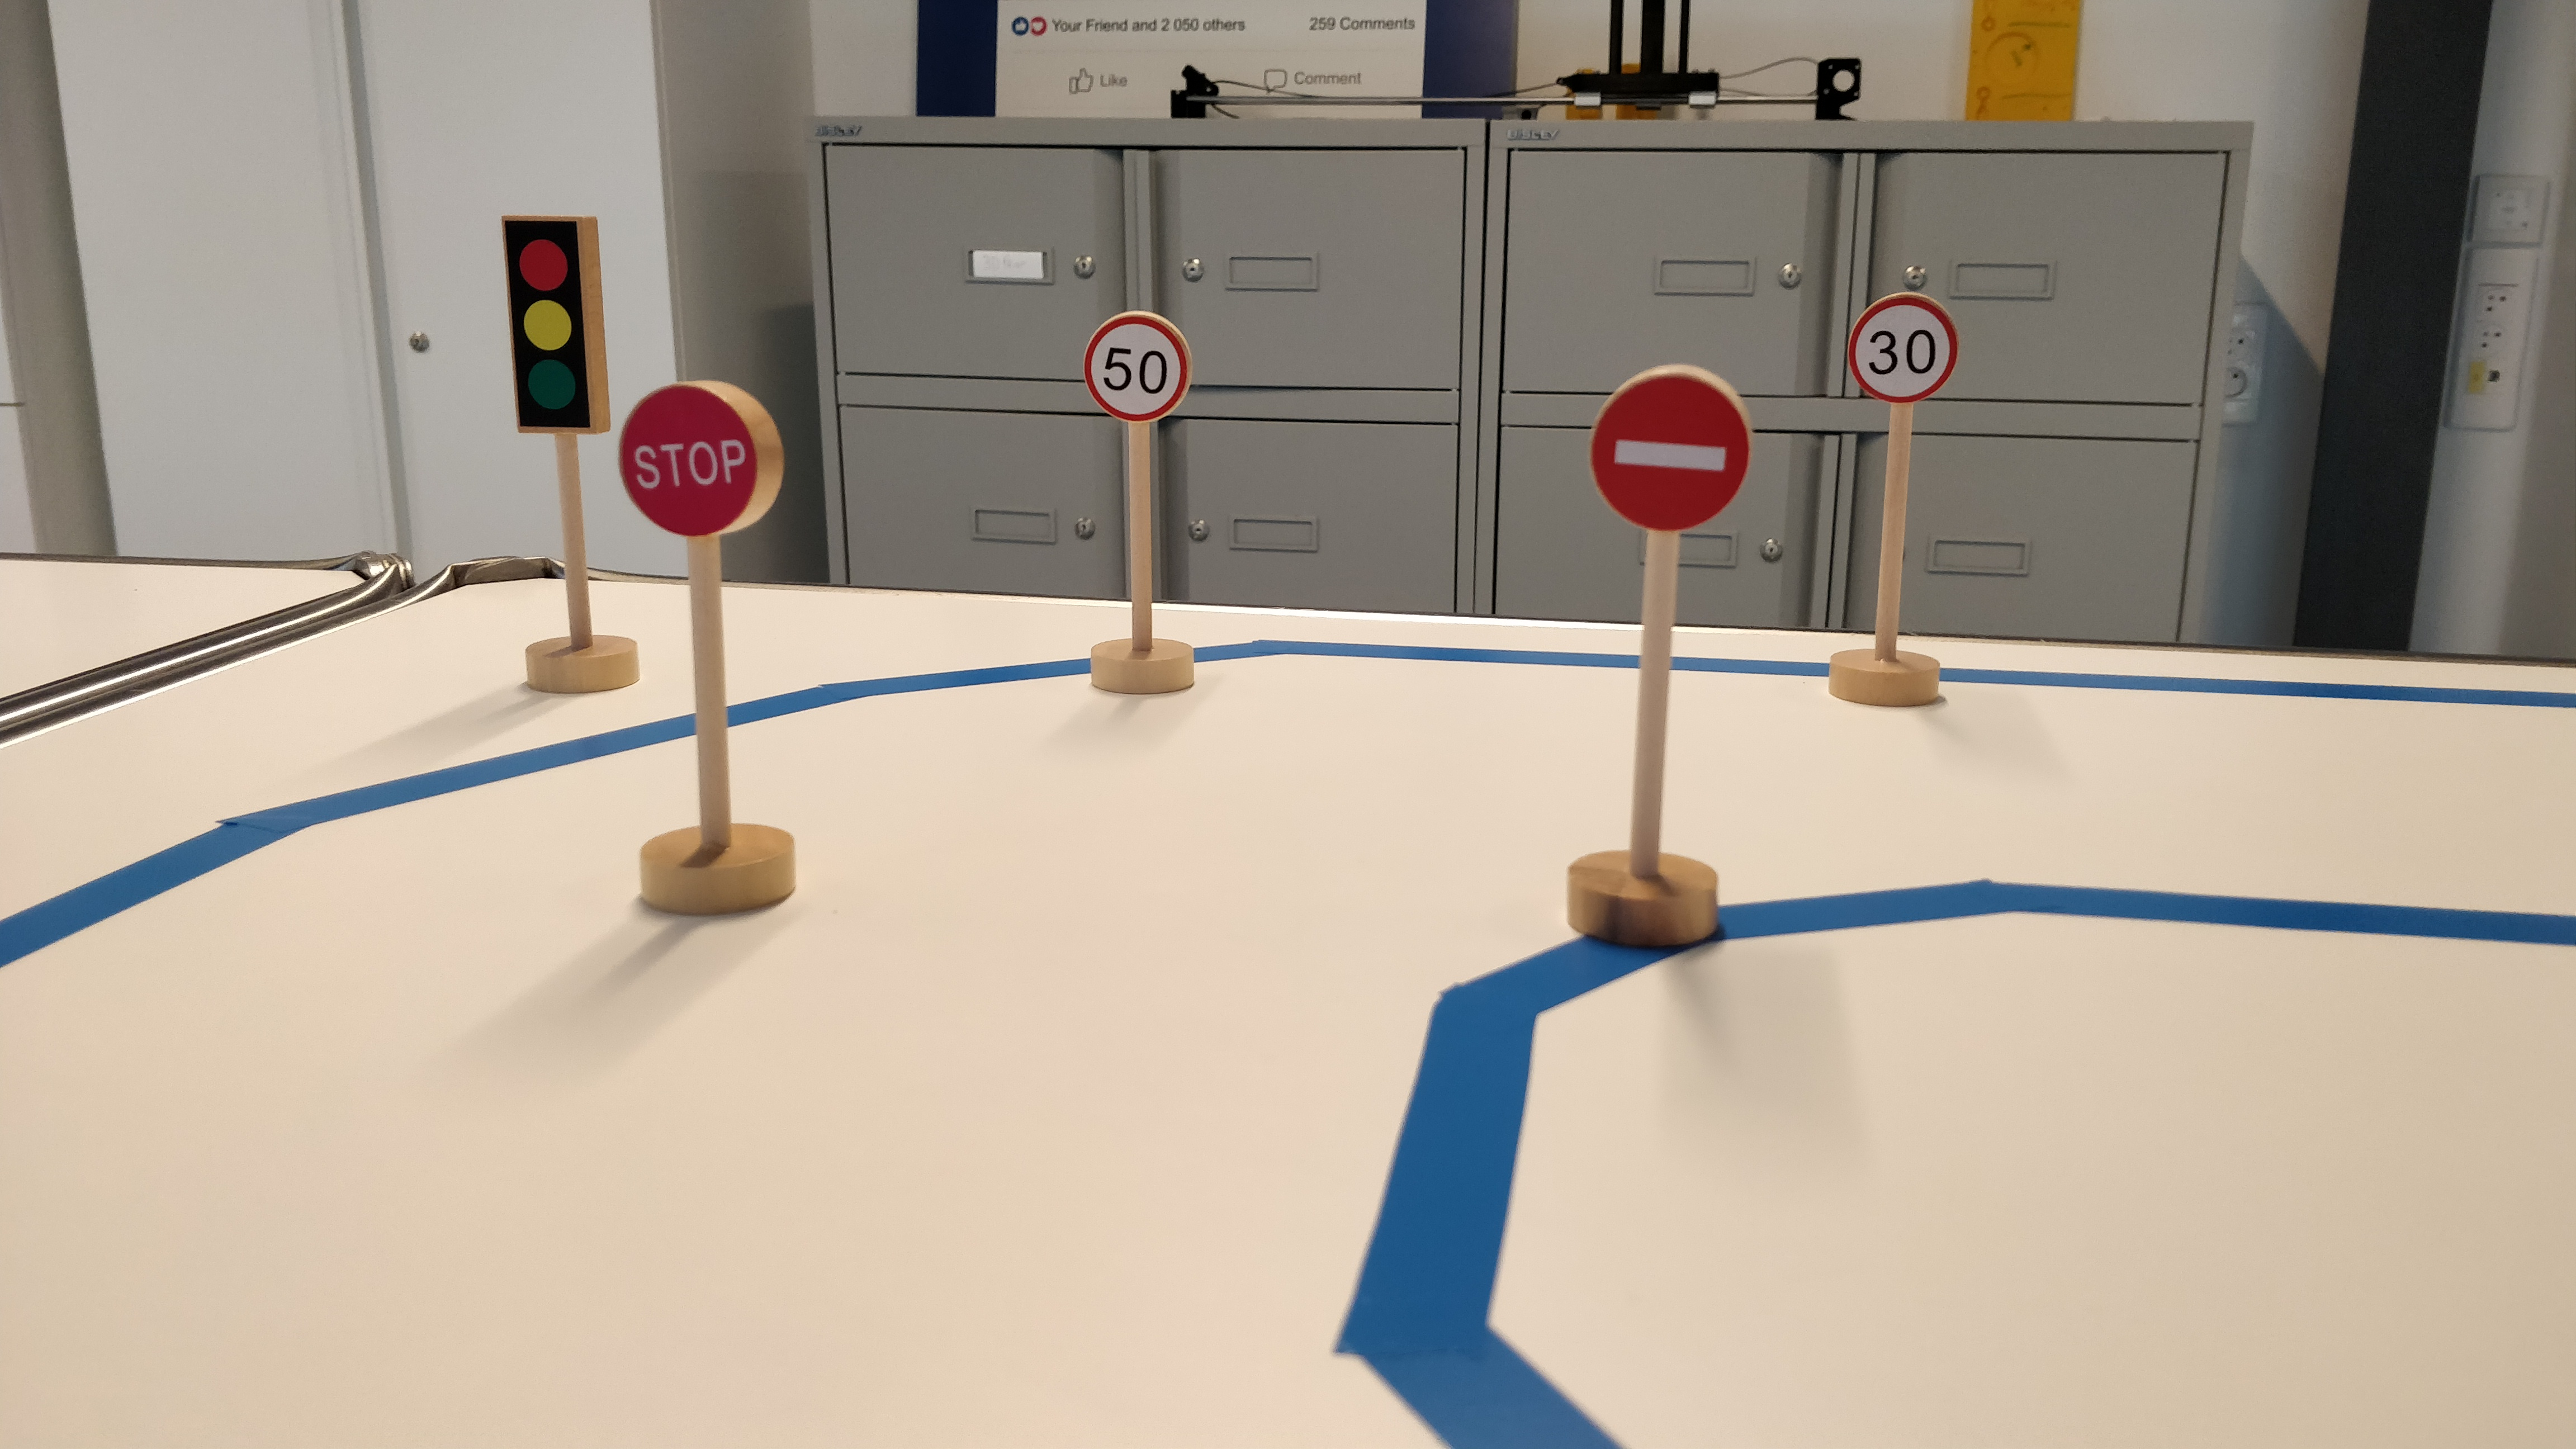Prohibition Sign: (1584, 360, 1755, 533)
Speed Limit 30: (1845, 287, 1961, 405)
Speed Limit 50: (1076, 311, 1196, 427)
Stop Sign: (616, 375, 791, 539)
Traffic Light: (499, 208, 618, 435)
